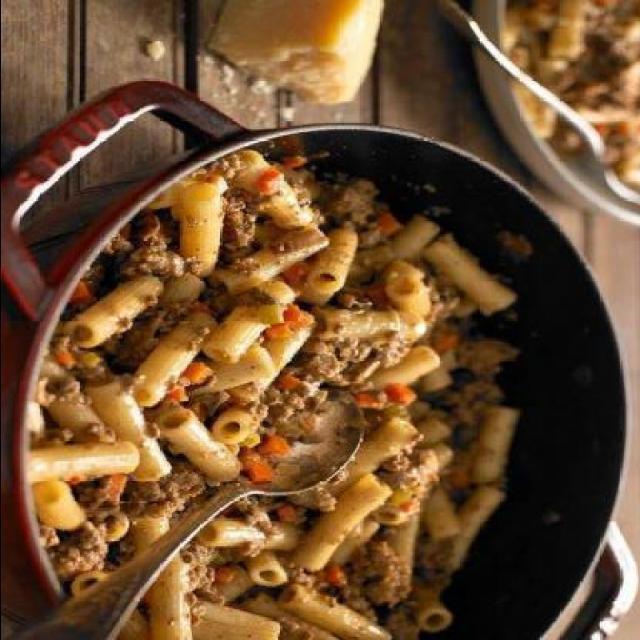Pasta al ragu: (56, 168, 572, 626)
